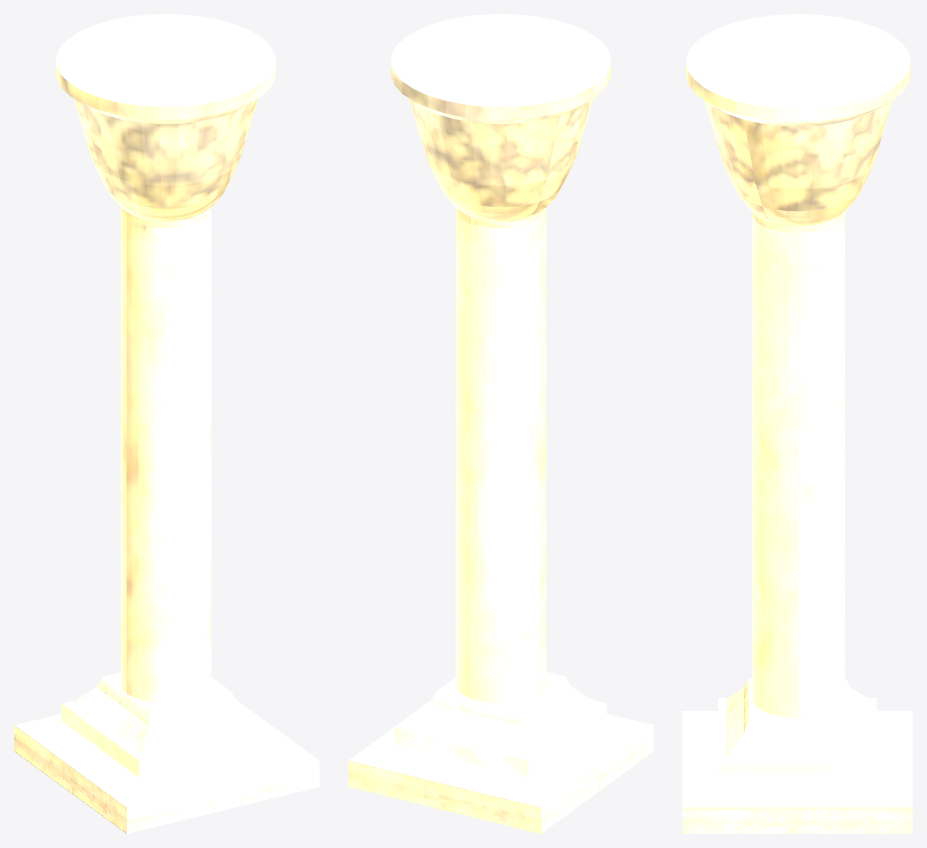
File: stylite.glb
3 renders of one model, left to right at view 1: azimuth 30°, elevation 25°; view 2: azimuth 150°, elevation 25°; view 3: azimuth 270°, elevation 25°, orthographic. The views are drawn at different scales.
Parts seen in each view (by area): view 1: Cylinder, Cube; view 2: Cylinder, Cube; view 3: Cylinder, Cube.
Boxes of the visible parts, bbox=[...] form: Cylinder: bbox=[56, 14, 275, 702]; Cube: bbox=[14, 672, 319, 833]; Cylinder: bbox=[391, 14, 610, 703]; Cube: bbox=[348, 672, 653, 833]; Cylinder: bbox=[686, 14, 910, 717]; Cube: bbox=[682, 678, 912, 833].
Size of the model in its own units: 1.6 by 5.62 by 1.62.
